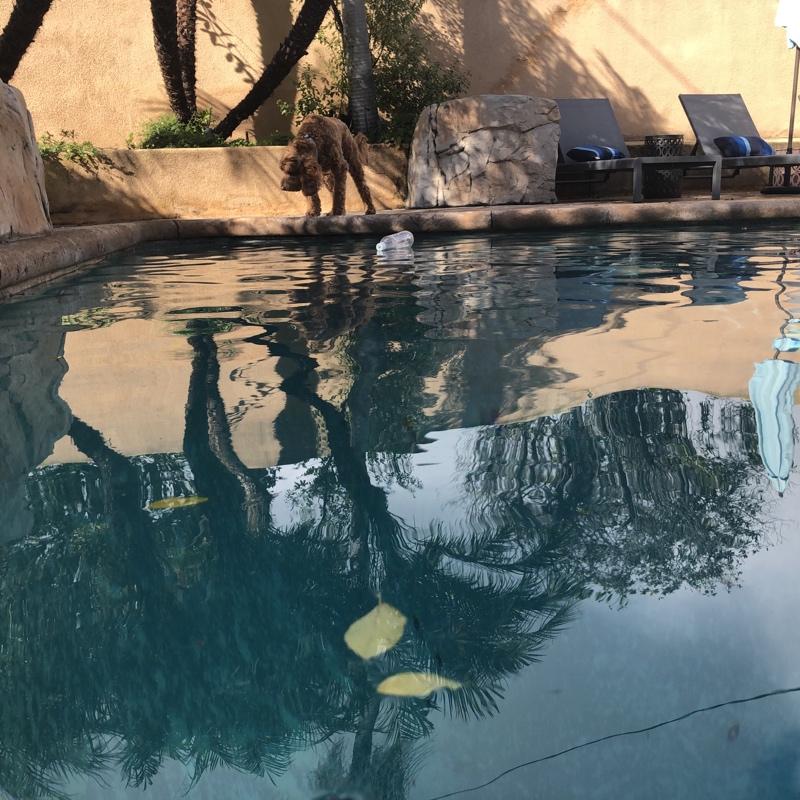Plastic Bottle: (374, 229, 413, 251)
